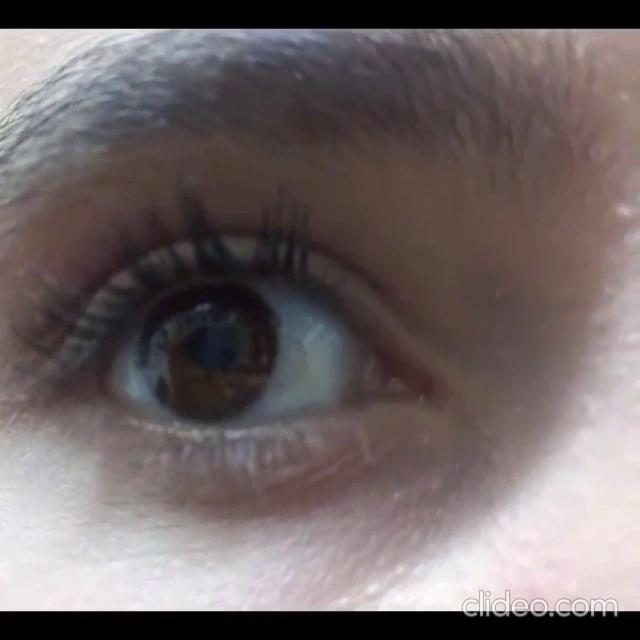iris: (138, 285, 278, 421)
pupille: (187, 320, 237, 363)
